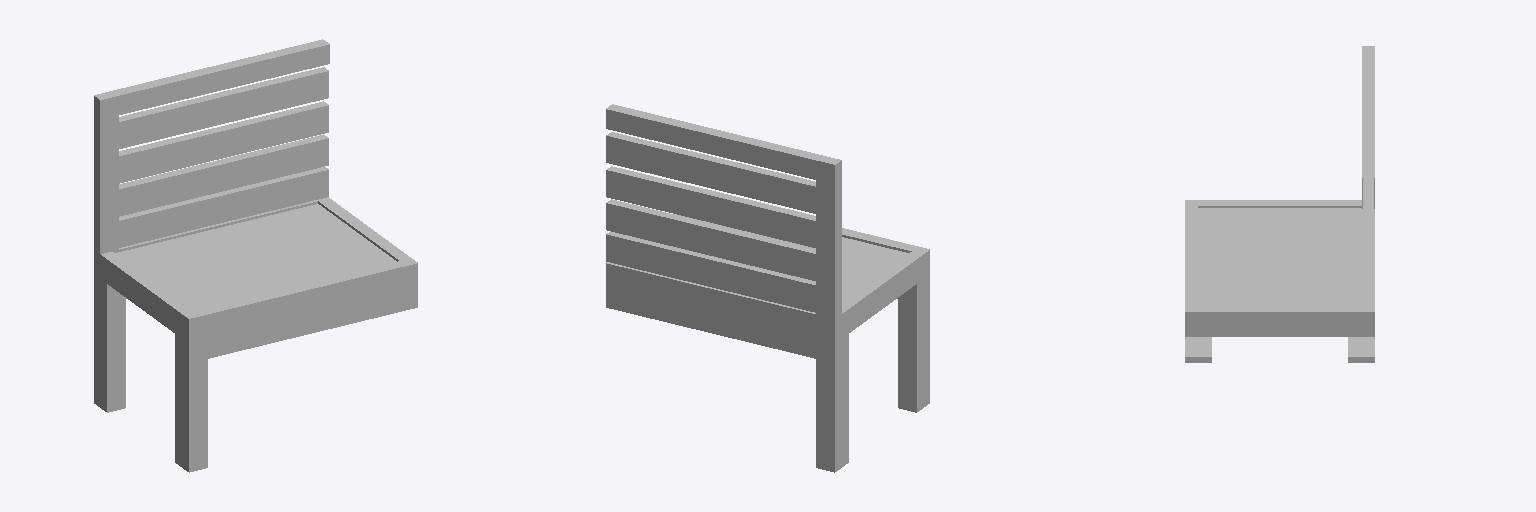
Rendered from benchleftx+.obj.
The picture shows the model from 3 angles: view 1: azimuth 30°, elevation 25°; view 2: azimuth 150°, elevation 25°; view 3: azimuth 270°, elevation 25°; orthographic projection.
Visible parts, largest first — view 1: chair_bedx+.042; view 2: chair_bedx+.042; view 3: chair_bedx+.042.
Boxes of the visible parts, x1,y1,x2,y2 form: chair_bedx+.042: [94, 39, 417, 472]; chair_bedx+.042: [606, 104, 929, 472]; chair_bedx+.042: [1185, 46, 1374, 362].
Bounding box in the file's own units: 0.9737 × 1.25 × 0.7.